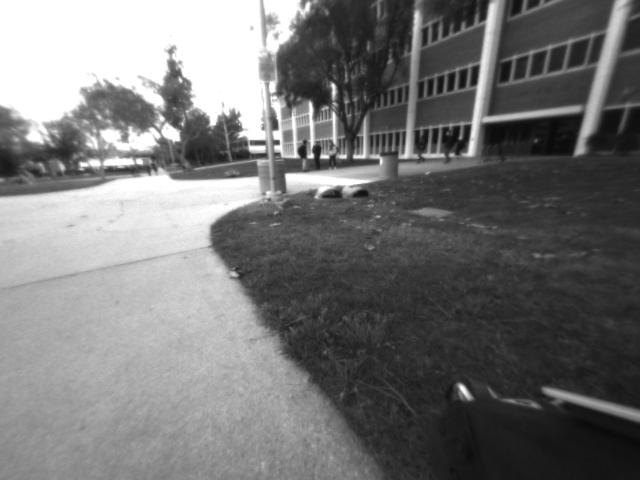trashcan: (256, 157, 286, 195), (379, 151, 399, 179)
